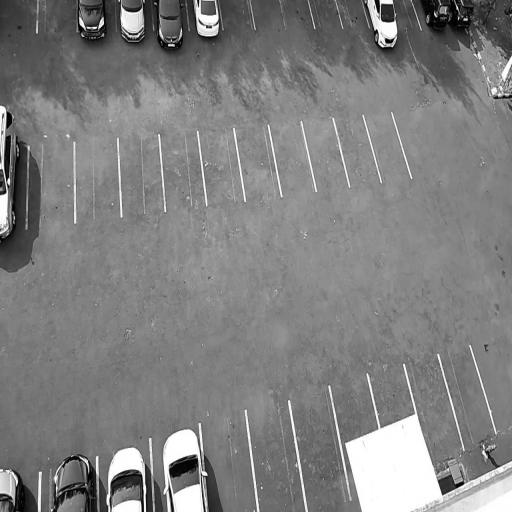Car: (157, 422, 209, 512), (44, 447, 96, 512), (0, 103, 23, 247), (104, 442, 150, 512), (362, 0, 401, 53), (151, 0, 189, 54), (115, 0, 150, 43), (0, 463, 30, 512), (77, 0, 110, 43), (190, 0, 223, 41), (419, 0, 453, 34), (449, 0, 473, 30)
Space Available: (289, 386, 350, 512), (248, 400, 306, 512), (405, 354, 463, 464), (201, 410, 259, 512), (439, 345, 496, 448), (76, 135, 122, 222), (160, 132, 208, 212), (29, 143, 74, 228), (119, 135, 165, 216), (234, 123, 281, 200), (269, 123, 316, 198), (301, 119, 350, 190), (198, 129, 245, 203), (330, 374, 379, 444), (364, 111, 411, 182), (368, 362, 416, 428), (335, 116, 380, 186), (37, 0, 77, 33), (0, 0, 37, 35), (250, 0, 285, 29), (280, 0, 314, 29), (308, 0, 342, 28), (336, 0, 369, 28), (395, 0, 421, 32)
